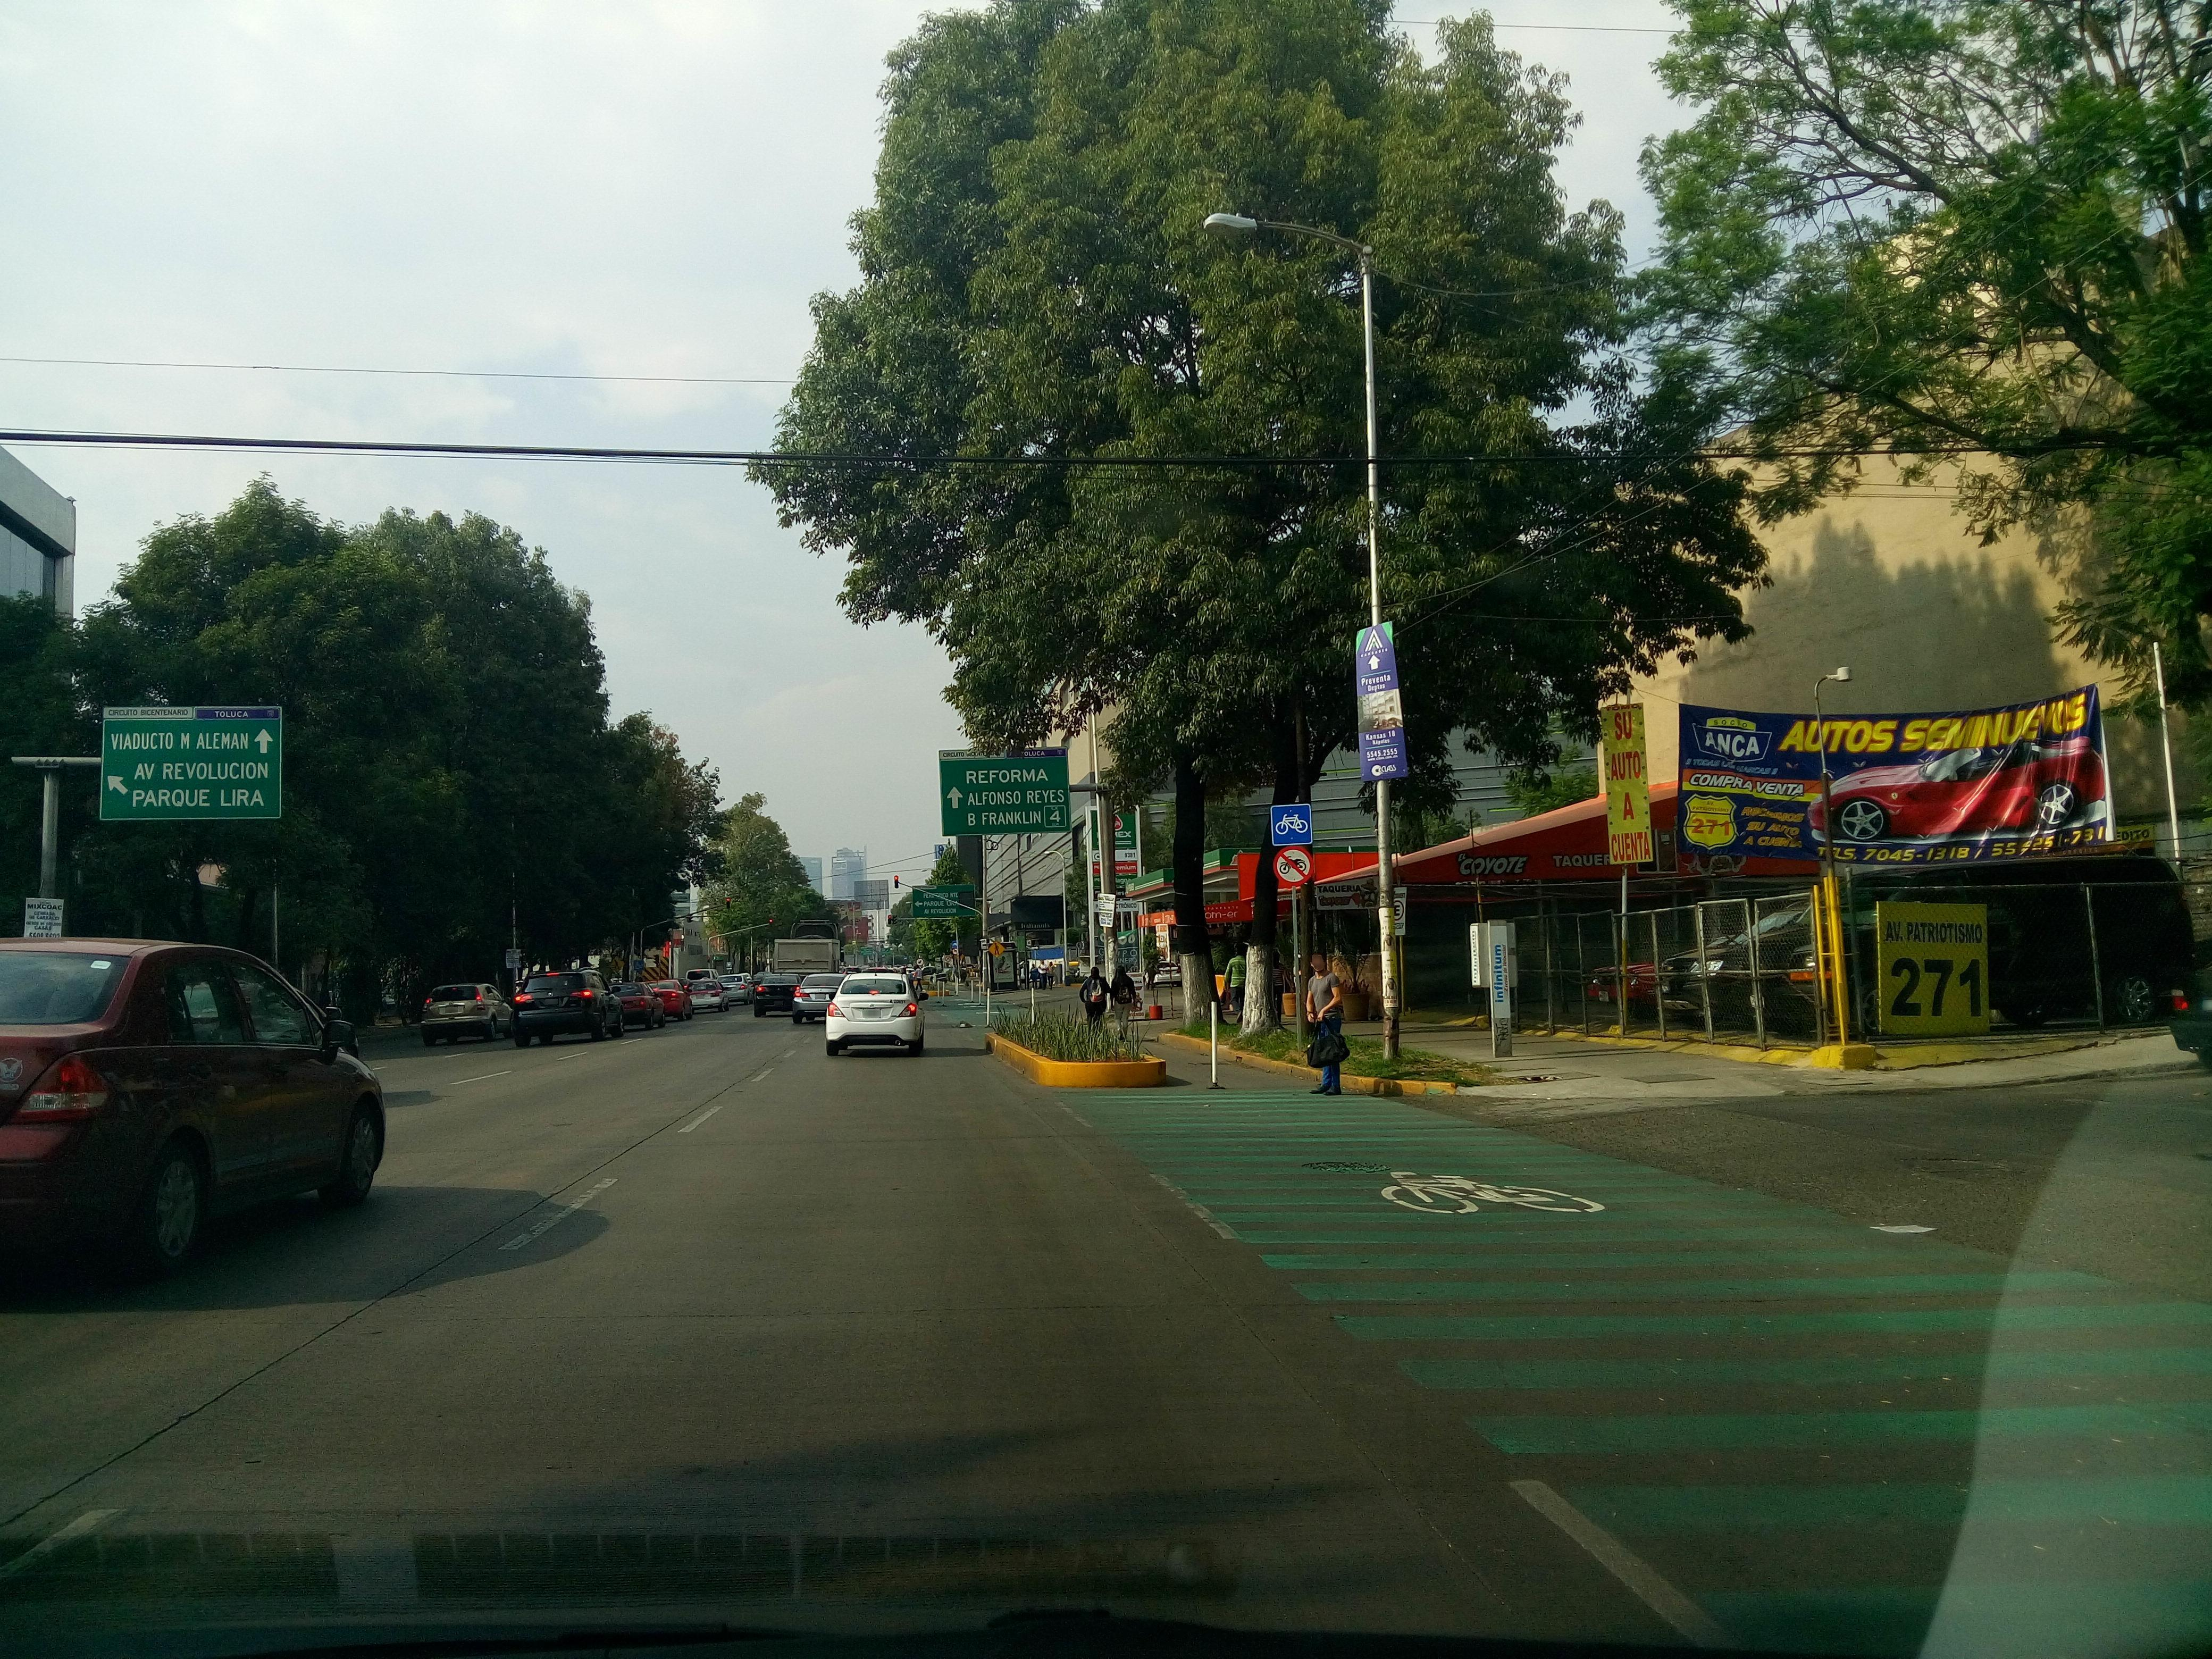vinyl banner: (1665, 676, 2132, 878), (1332, 605, 1442, 807), (1576, 681, 1655, 870)
